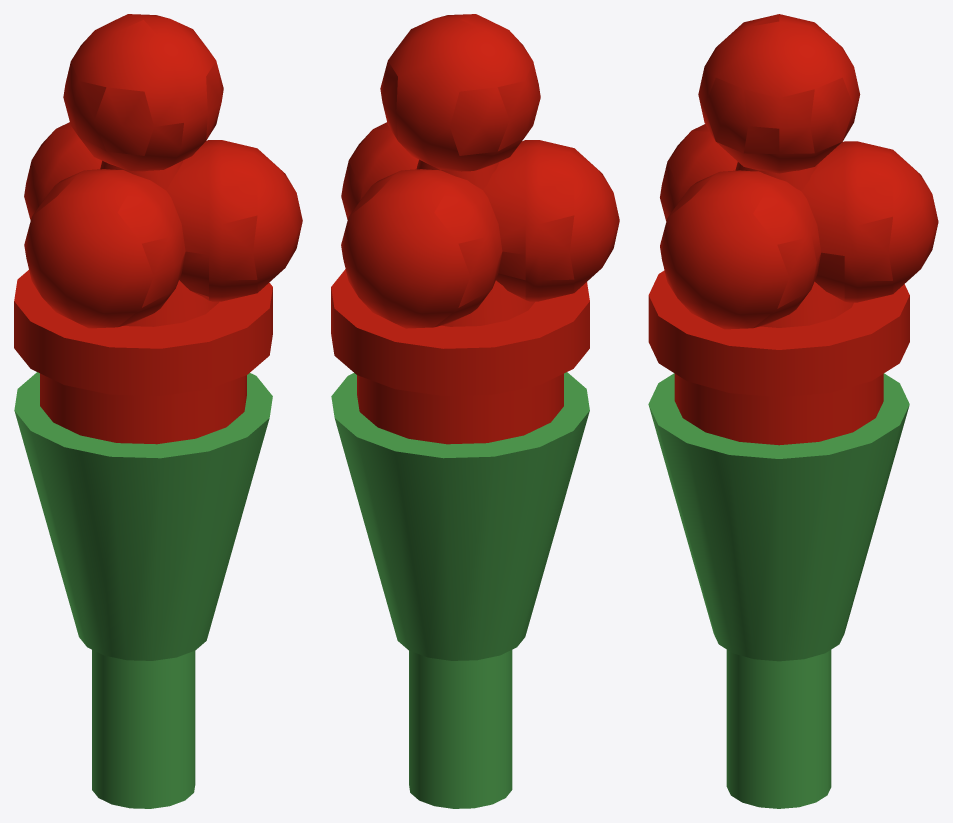
Rendered from flowers.dae.
3 renders of one model, left to right at view 1: azimuth 30°, elevation 25°; view 2: azimuth 150°, elevation 25°; view 3: azimuth 270°, elevation 25°, orthographic.
Visible parts, largest first — view 1: 6254_dot_dat.002, 11610_dot_dat.002; view 2: 6254_dot_dat.002, 11610_dot_dat.002; view 3: 6254_dot_dat.002, 11610_dot_dat.002.
Boxes of the visible parts, left/top/right/bottom form: 6254_dot_dat.002: left=14, top=14, right=302, bottom=444; 11610_dot_dat.002: left=14, top=372, right=272, bottom=808; 6254_dot_dat.002: left=331, top=14, right=619, bottom=444; 11610_dot_dat.002: left=331, top=372, right=589, bottom=808; 6254_dot_dat.002: left=648, top=14, right=938, bottom=445; 11610_dot_dat.002: left=648, top=373, right=909, bottom=808.
Bounding box in the file's own units: 0.8974 × 0.882 × 2.57.
